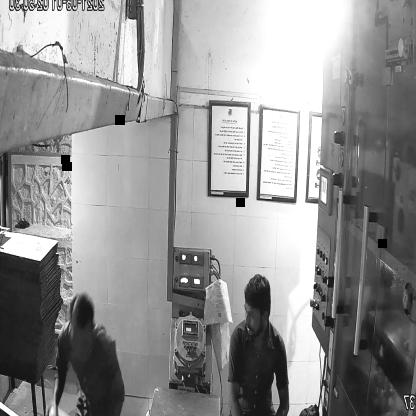no_goggles: (242, 301, 274, 326)
